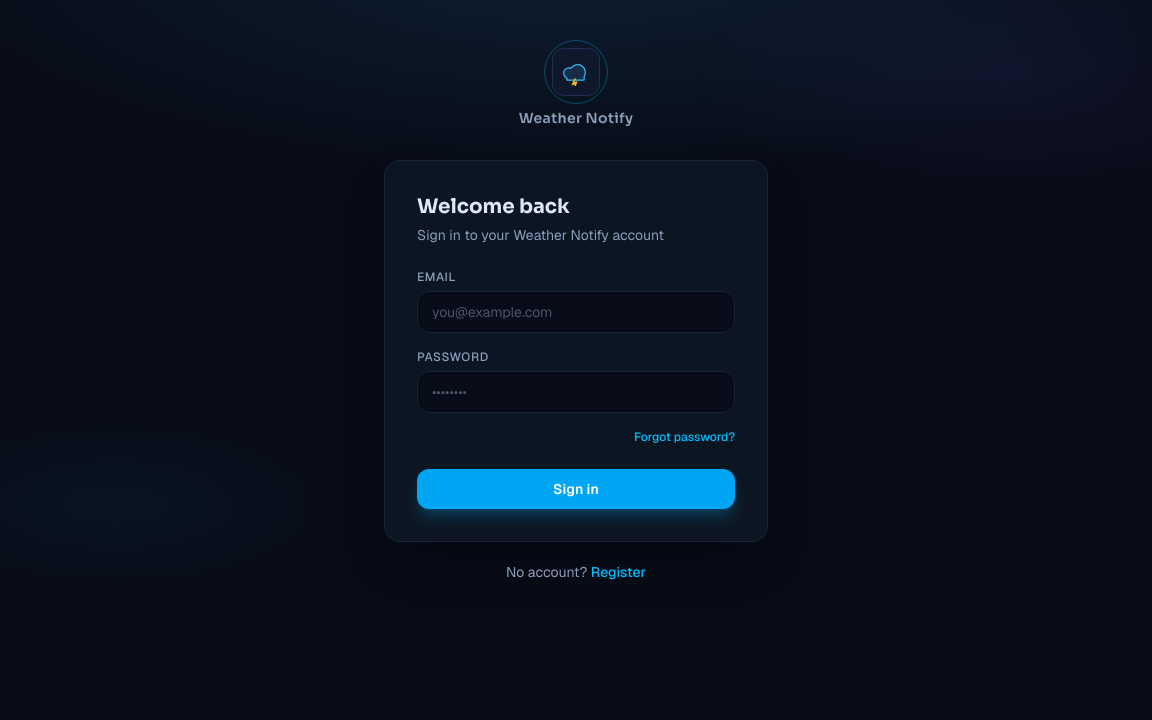
AuthForm › shows validation errors and does not submit on empty input
What coordinates should you click on to do the following:
click the button "Sign in"
I would click on:
 (576, 489)
Its box is [417,469,735,509].
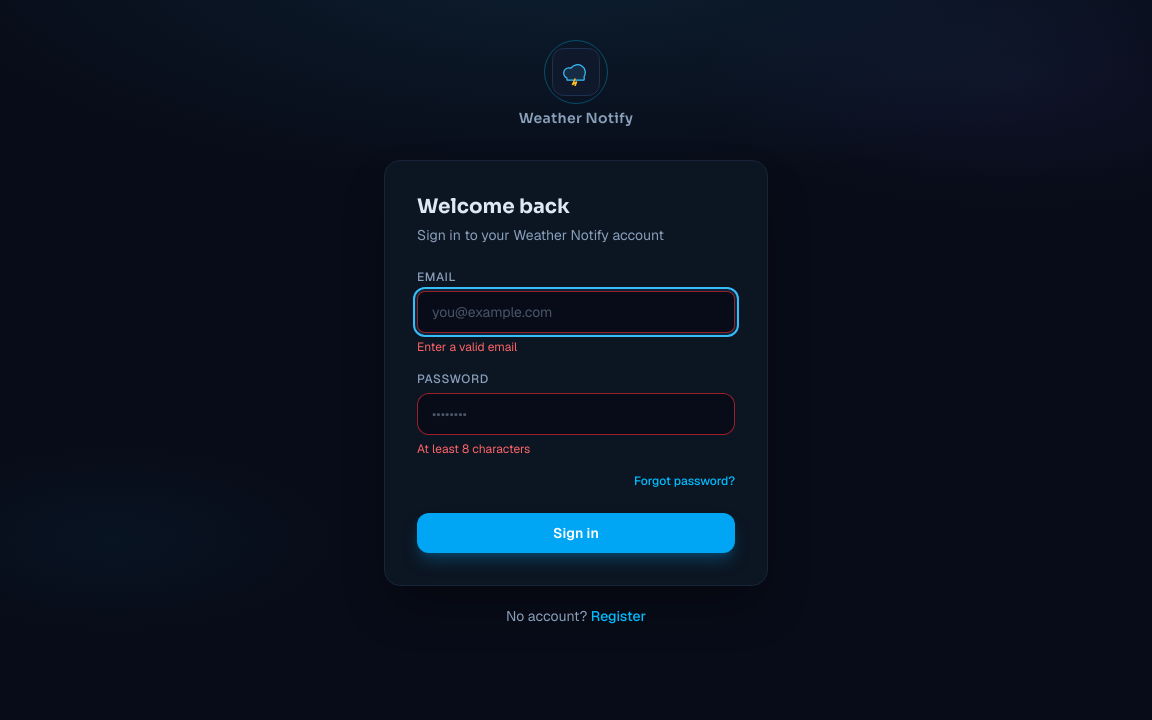
Expected: the text "Enter a valid email" is shown, [417,339,517,355]
Expected: the text "At least 8 characters" is shown, [417,441,530,457]
